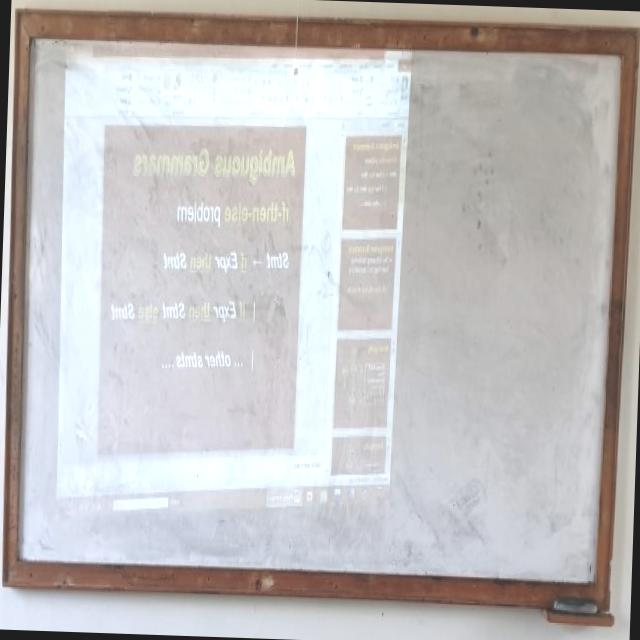Slide: (55, 27, 415, 522)
White-board: (8, 24, 630, 597)
